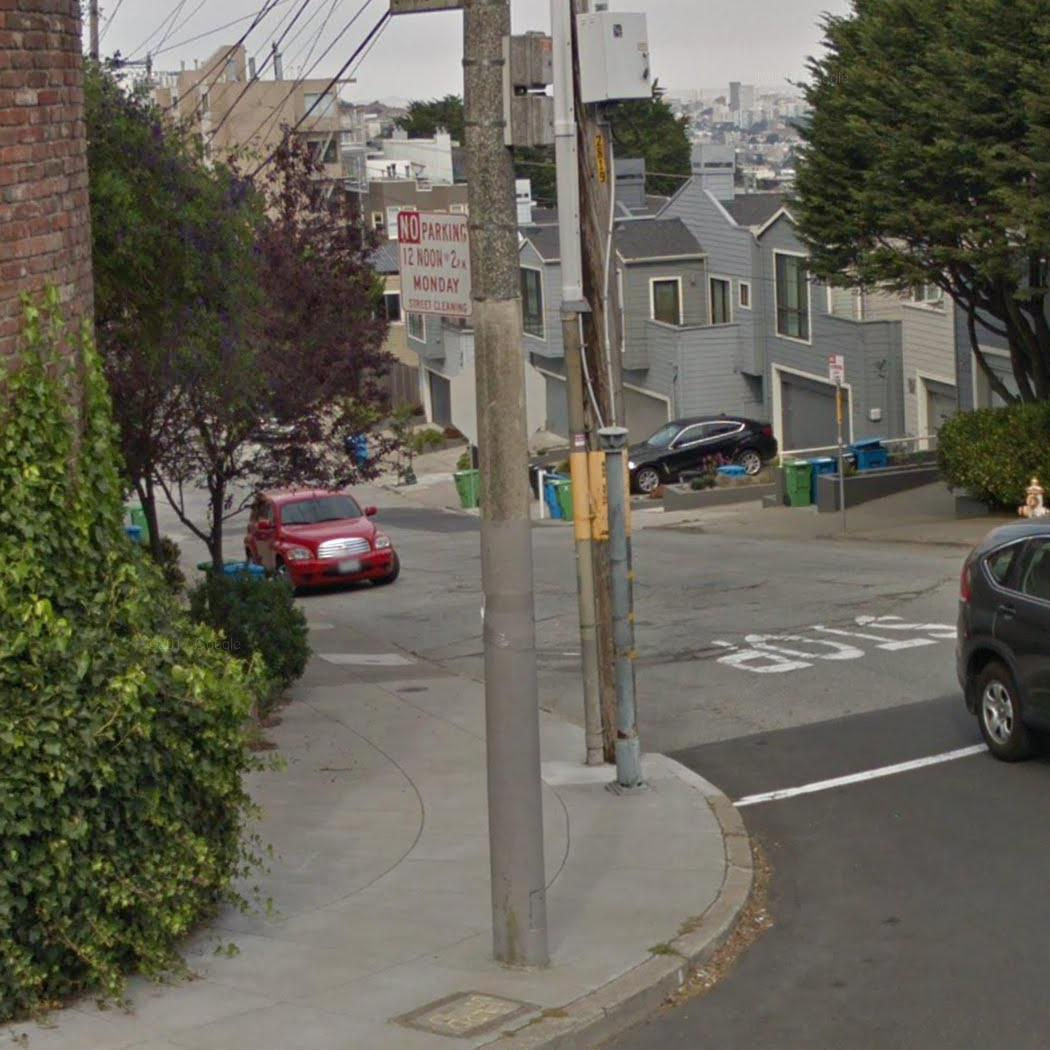No Parking: (396, 209, 468, 319)
